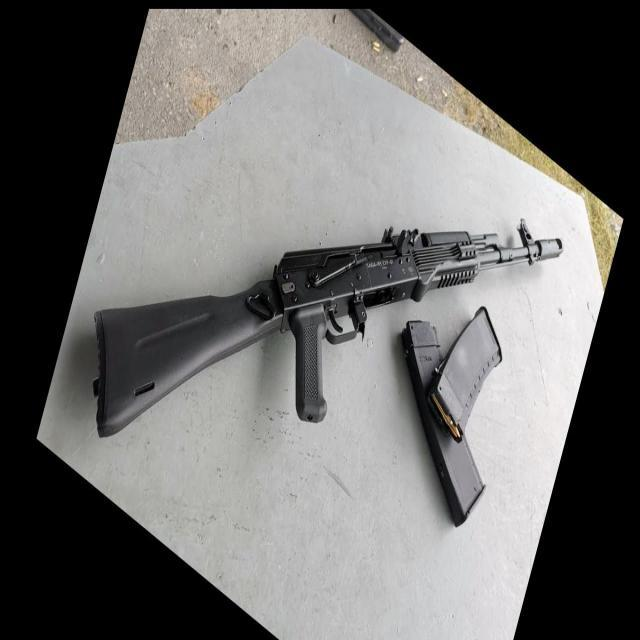weapon: (92, 218, 564, 438)
